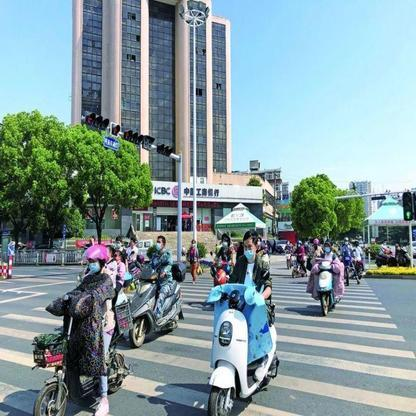target: (205, 227, 279, 414), (129, 235, 185, 348)
